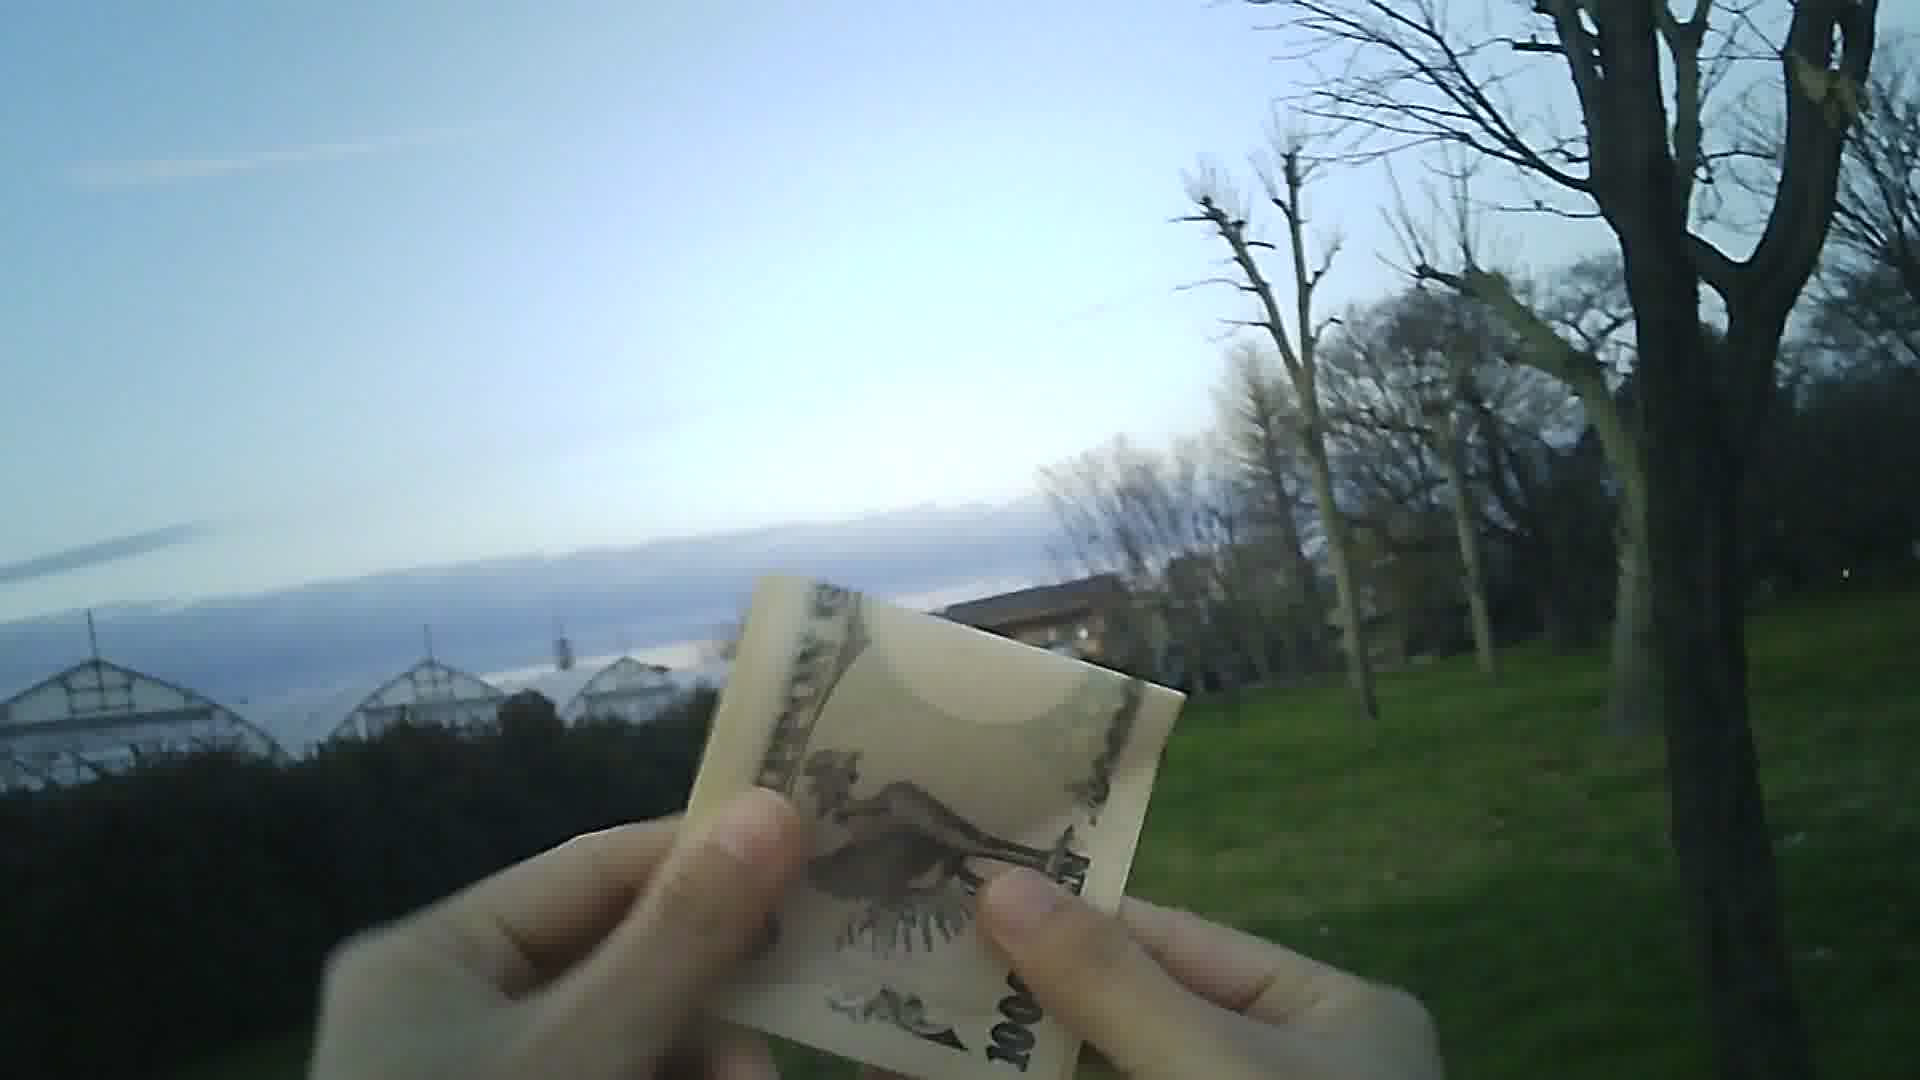10,000 Yen: (622, 560, 1224, 1079)
